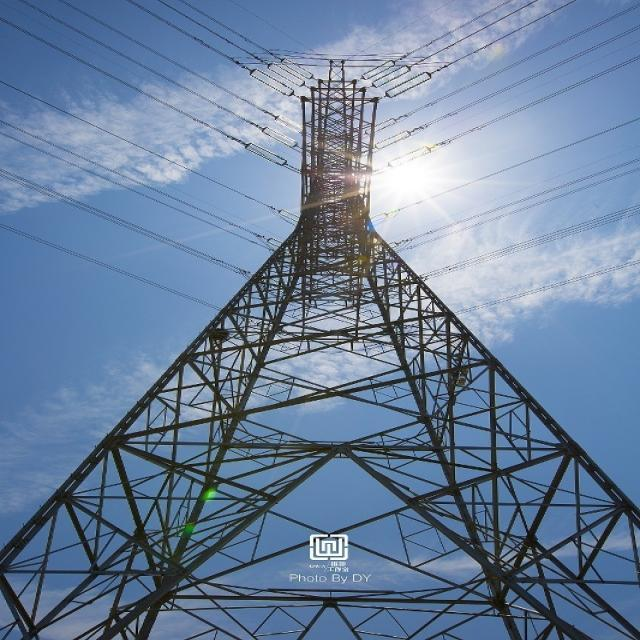non-critical vegetation: (14, 51, 632, 626)
